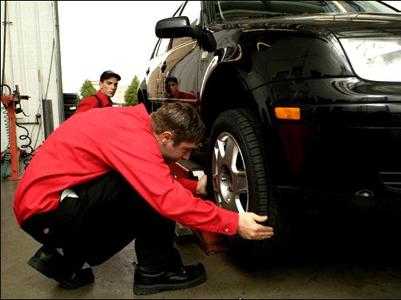person: (10, 96, 276, 297)
